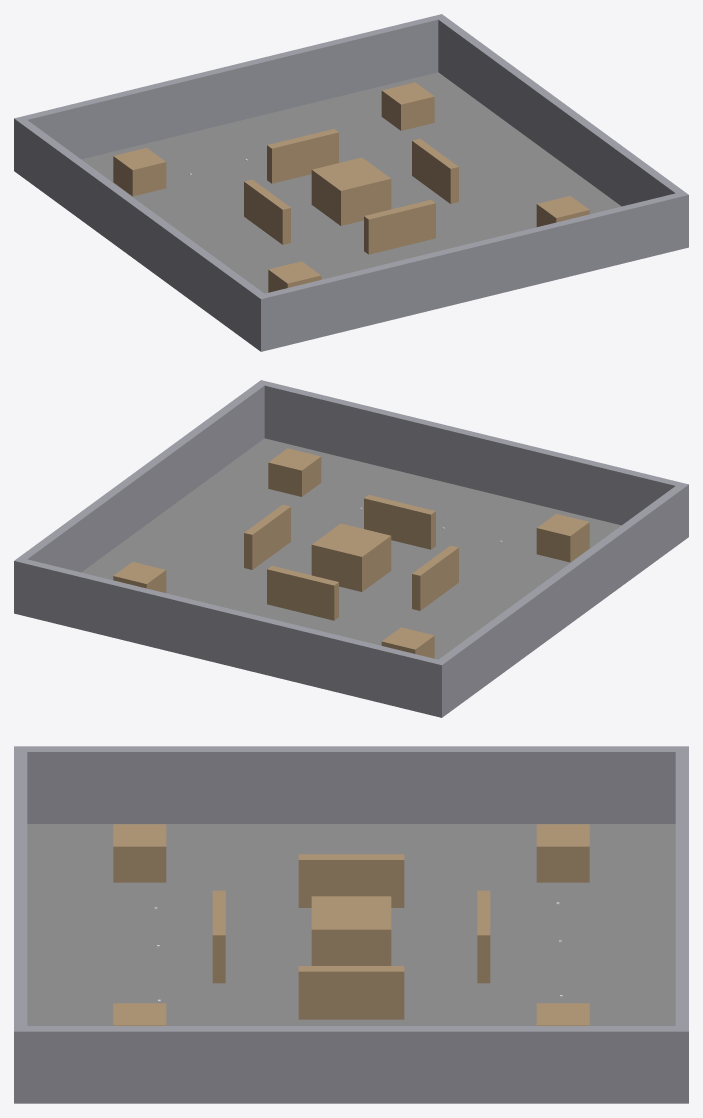
The model's file is dust3.glb.
3 views of the same model, one above another, from view 1: azimuth 30°, elevation 25°; view 2: azimuth 150°, elevation 25°; view 3: azimuth 270°, elevation 25° (orthographic). The views are drawn at different scales.
Visible parts, largest first — view 1: Floor, OuterWallSouth, OuterWallNorth, OuterWallWest, OuterWallEast, CenterBox, Wall4, Wall3, CornerBox2, CornerBox1, Wall1, Wall2 (+2 smaller); view 2: Floor, OuterWallNorth, OuterWallSouth, OuterWallWest, OuterWallEast, CenterBox, Wall3, Wall4, CornerBox4, CornerBox3, Wall1, Wall2 (+2 smaller); view 3: Floor, OuterWallEast, OuterWallWest, Wall1, CenterBox, OuterWallSouth, OuterWallNorth, Wall2, CornerBox2, CornerBox4, Wall3, Wall4 (+2 smaller).
Part boxes in pixels (<box>): Floor: <box>81,72,621,293</box>; OuterWallSouth: <box>256,191,688,351</box>; OuterWallNorth: <box>14,14,445,174</box>; OuterWallWest: <box>14,116,269,351</box>; OuterWallEast: <box>434,14,688,241</box>; CenterBox: <box>311,157,391,225</box>; Wall4: <box>364,200,435,254</box>; Wall3: <box>267,129,338,183</box>; CornerBox2: <box>113,148,166,196</box>; CornerBox1: <box>381,82,434,130</box>; Wall1: <box>412,138,458,203</box>; Wall2: <box>244,179,290,244</box>; Floor: <box>81,438,621,659</box>; OuterWallNorth: <box>14,557,446,717</box>; OuterWallSouth: <box>256,380,688,536</box>; OuterWallWest: <box>433,482,688,717</box>; OuterWallEast: <box>14,380,266,614</box>; CenterBox: <box>311,523,391,591</box>; Wall3: <box>267,566,338,620</box>; Wall4: <box>364,495,435,549</box>; CornerBox4: <box>536,514,589,562</box>; CornerBox3: <box>268,448,321,496</box>; Wall1: <box>244,504,290,569</box>; Wall2: <box>412,545,458,610</box>; Floor: <box>27,824,675,1025</box>; OuterWallEast: <box>14,1026,688,1103</box>; OuterWallWest: <box>14,746,688,823</box>; Wall1: <box>298,966,404,1019</box>; CenterBox: <box>311,896,391,965</box>; OuterWallSouth: <box>14,746,27,1103</box>; OuterWallNorth: <box>675,746,688,1103</box>; Wall2: <box>298,854,404,907</box>; CornerBox2: <box>536,824,589,882</box>; CornerBox4: <box>113,824,166,882</box>; Wall3: <box>477,890,490,983</box>; Wall4: <box>212,890,225,983</box>.
Bounding box in the file's own units: 25.5 × 3.05 × 25.5.
